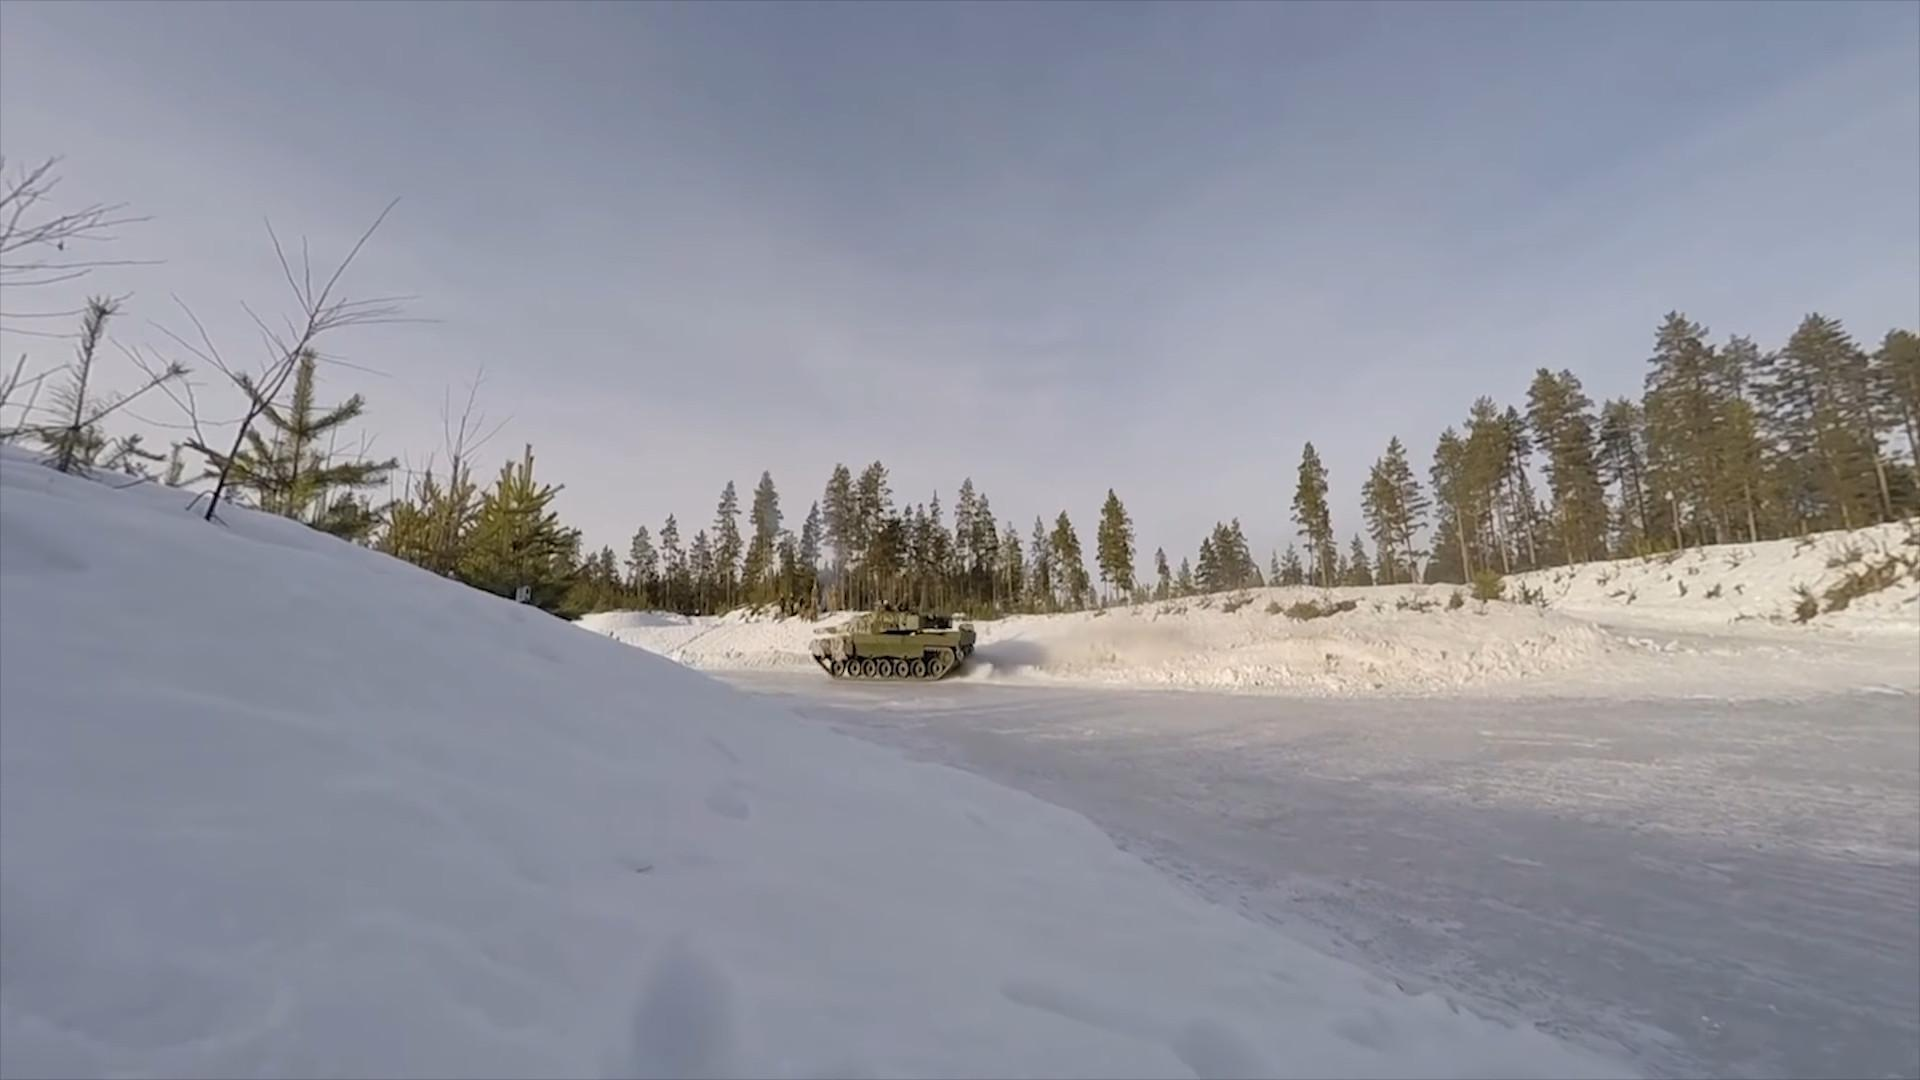tank: (810, 608, 976, 682)
